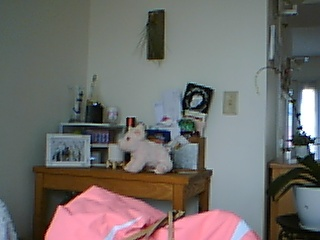piggy: (117, 123, 172, 175)
